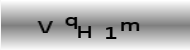1: (104, 26, 117, 39)
H: (77, 24, 92, 39)
V: (37, 20, 54, 34)
m: (119, 21, 140, 32)
q: (65, 16, 78, 29)
